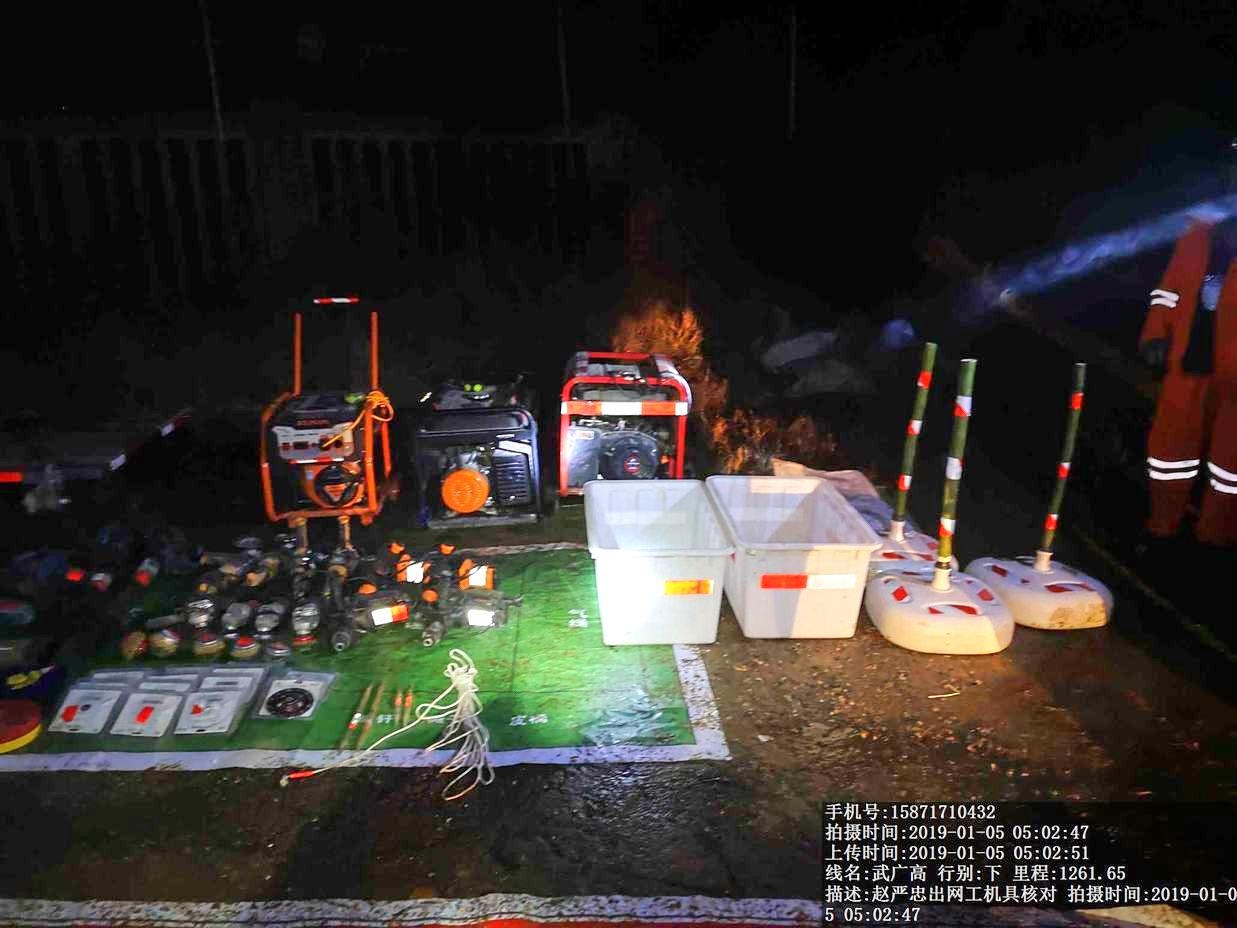DJ: (250, 291, 393, 538), (551, 336, 708, 488), (402, 363, 545, 518)
DZ: (410, 583, 521, 645), (335, 585, 412, 653), (430, 531, 503, 590), (274, 515, 318, 601), (321, 517, 362, 600)
ST: (993, 345, 1127, 631), (895, 354, 1017, 653)
T: (709, 470, 882, 645), (582, 472, 738, 651)
